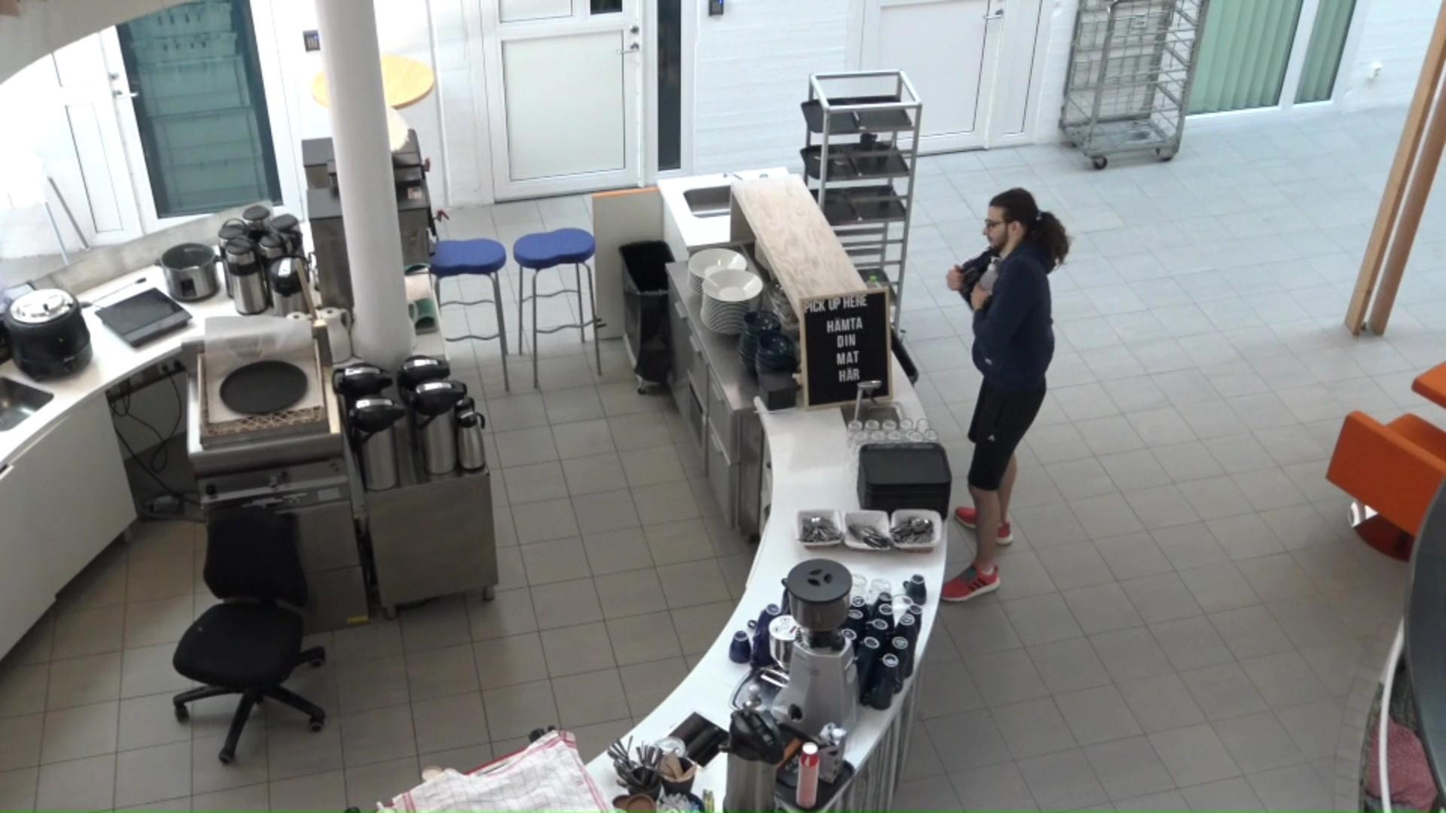shoplifting: (947, 189, 1055, 599)
